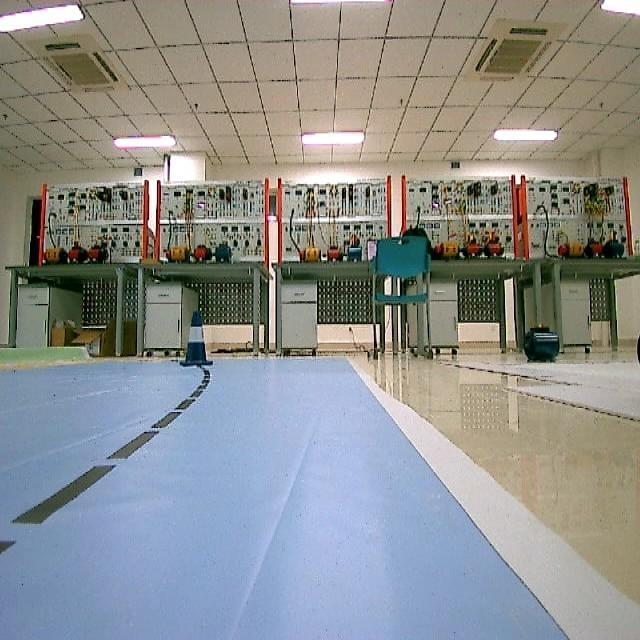obstacle: (173, 306, 216, 370)
